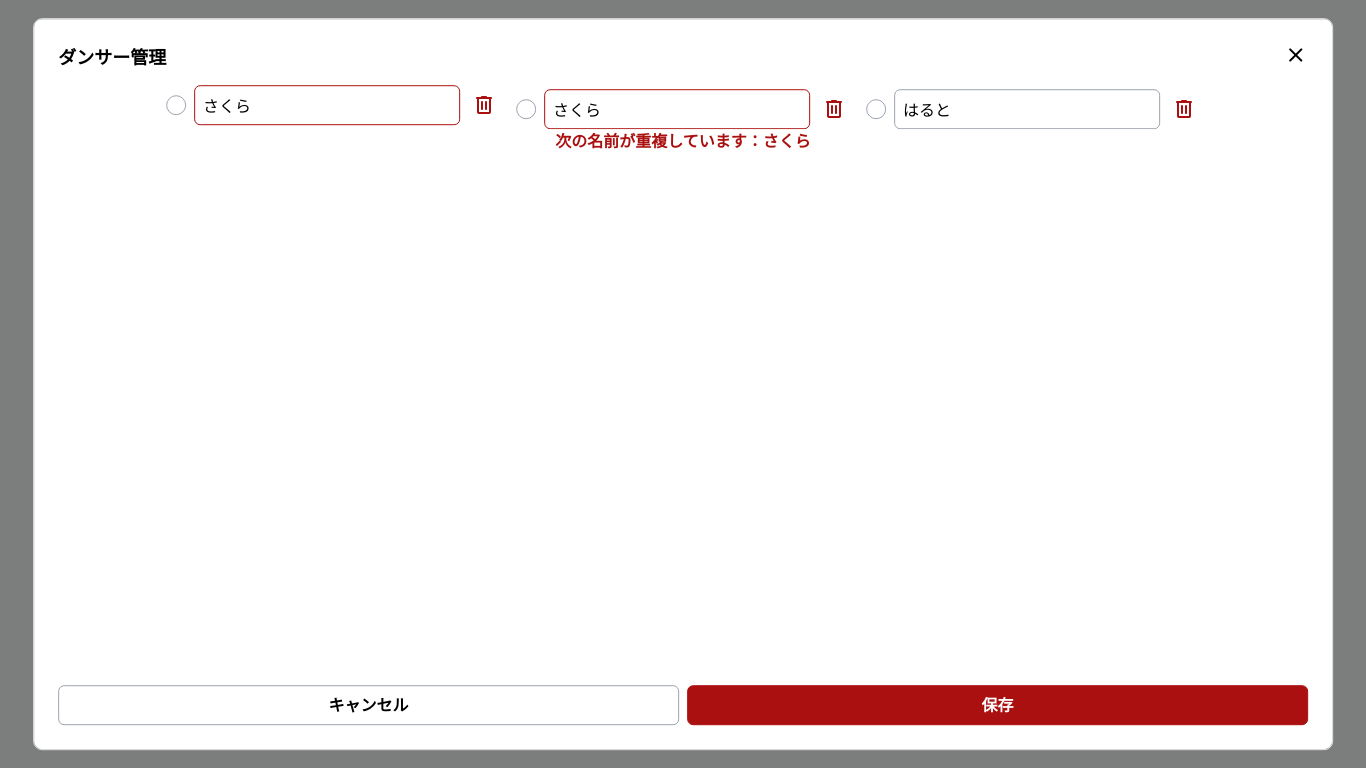
Test case: DancerManagerDialog deleting › frees a deleted dancer's name for another row
Expected: the text "次の名前が重複しています：さくら" is shown, x1=555 y1=131 x2=811 y2=151
Click the 2nd button named "delete" at (484, 105), box x1=472 y1=93 x2=496 y2=117
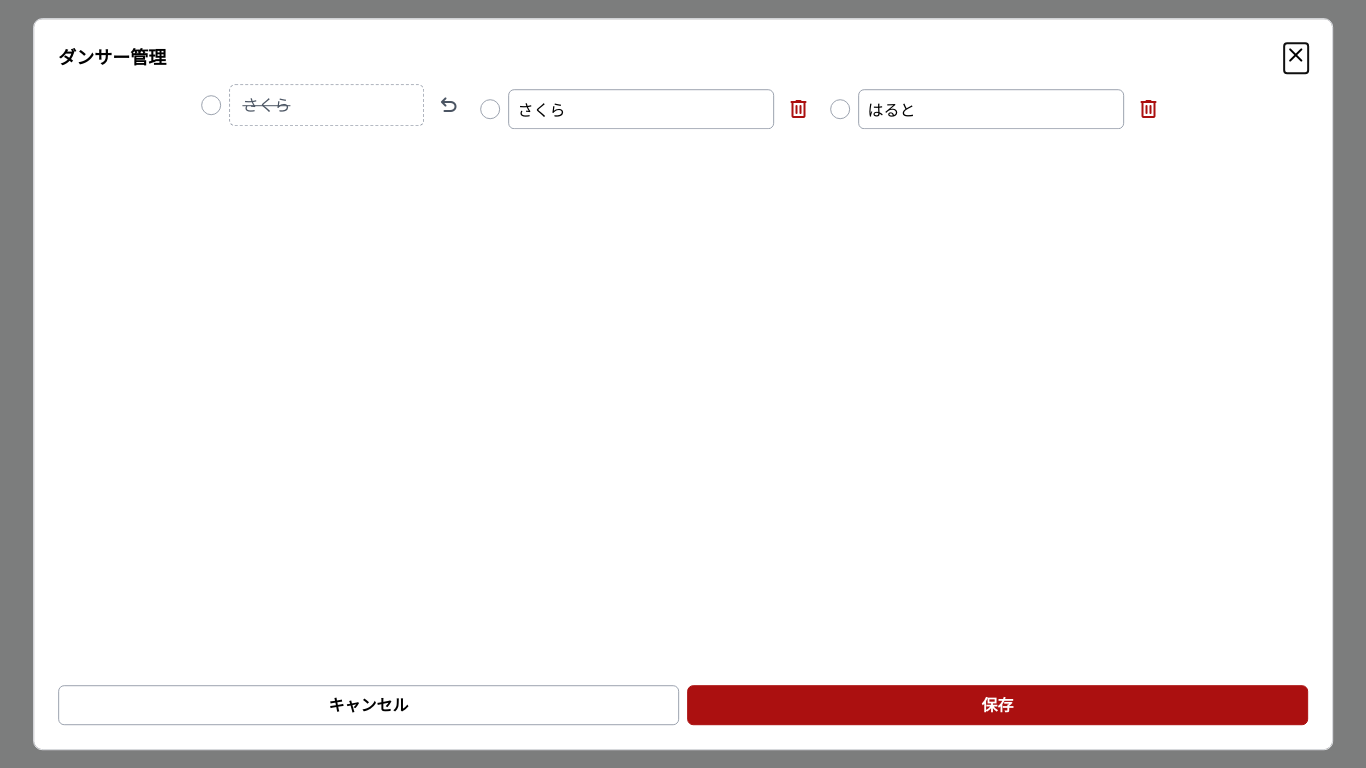
Now the text "次の名前が重複しています" is gone
